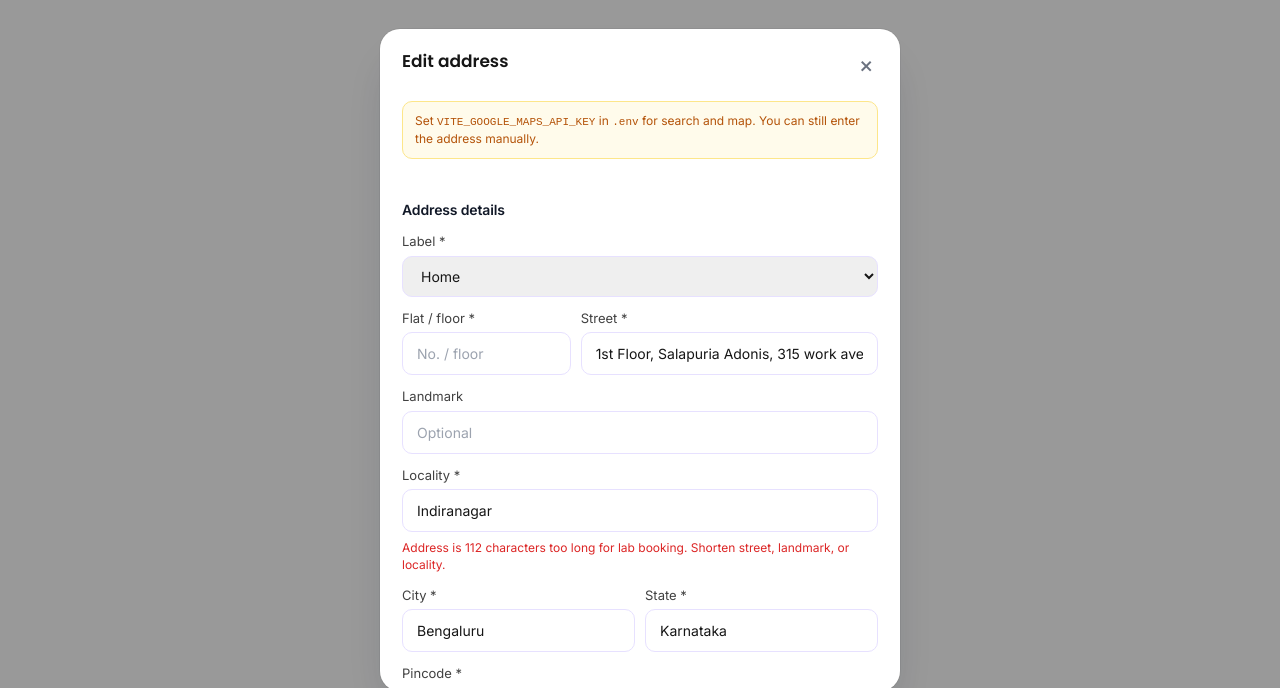
Test: AddAddressModal address length guidance › re-enables save after shortening the address under the limit
Replace the text in the field named "street" with "Old Madras Rd" at point(729, 354), box [581,332,878,375]
(page scrolled)
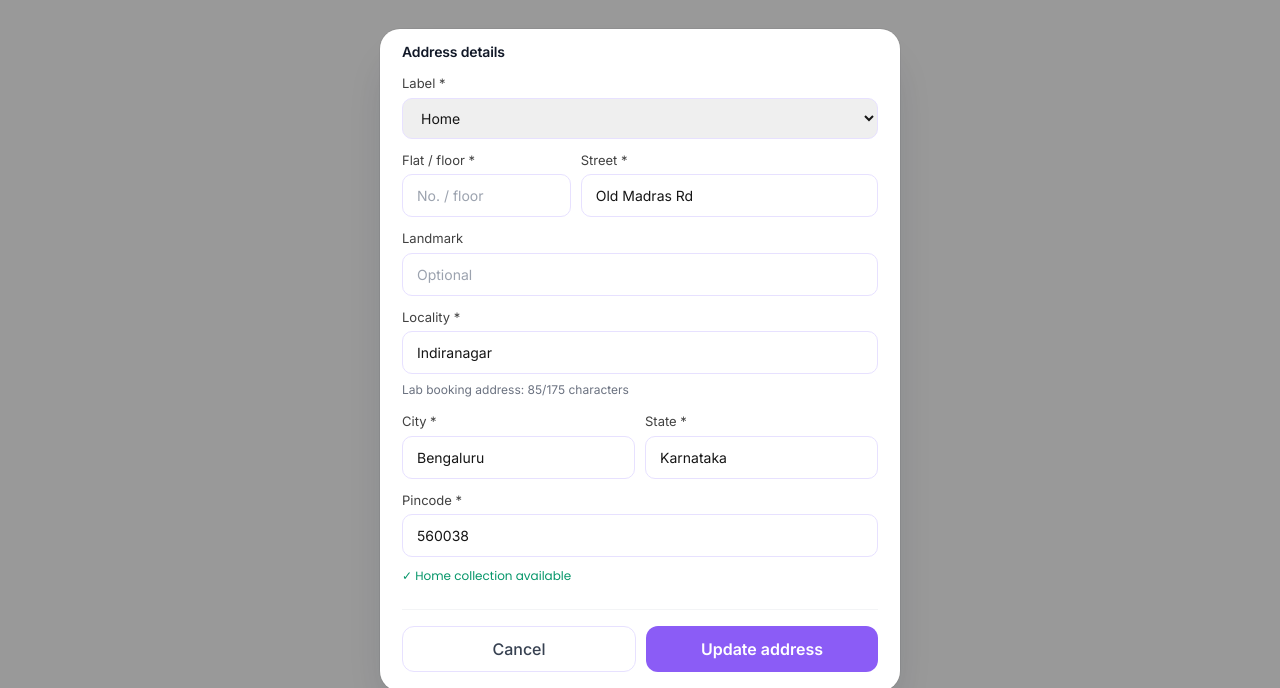
Now the button "Update address" is enabled, box [646,626,878,672]
